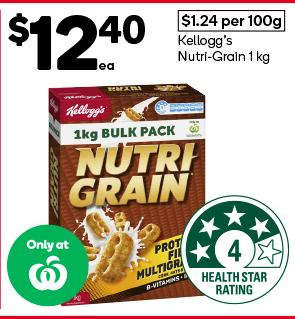description_block: (175, 34, 280, 68)
price_main: (4, 6, 150, 75)
product_image_block: (36, 86, 270, 306)
unit_price_block: (174, 8, 289, 34)
